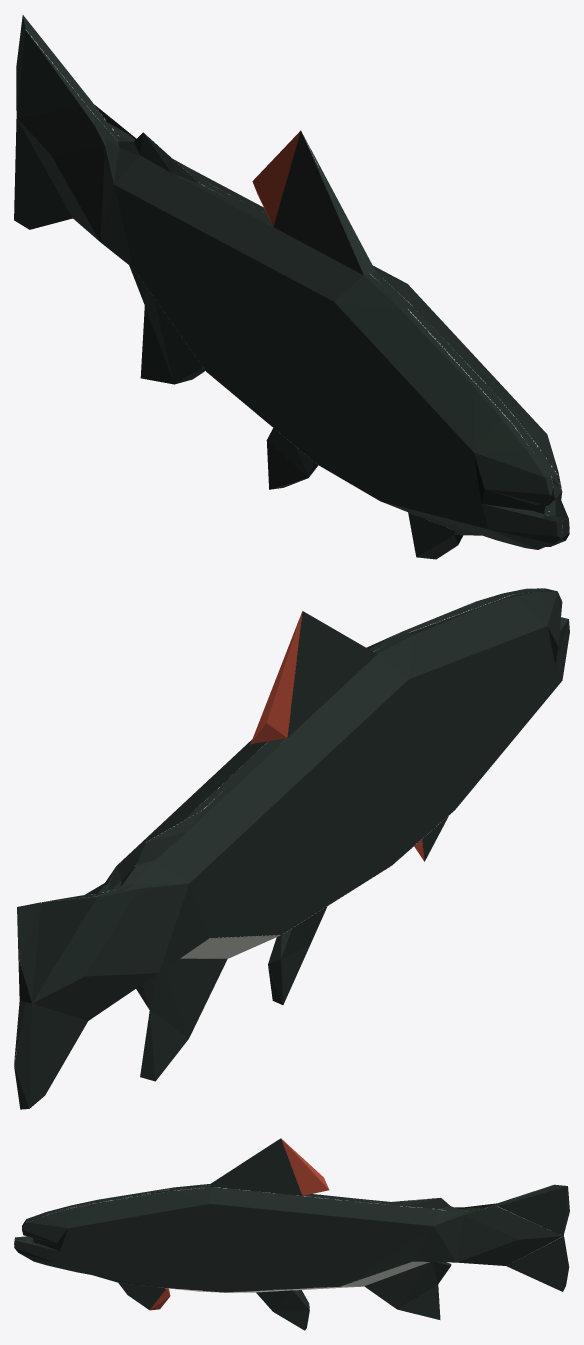
File: trout.fbx
The picture shows the model from 3 angles, top to bottom: view 1: azimuth 30°, elevation 25°; view 2: azimuth 150°, elevation 25°; view 3: azimuth 270°, elevation 25°; orthographic projection. The views are drawn at different scales.
Visible parts, largest first — view 1: Cube; view 2: Cube; view 3: Cube.
Boxes of the visible parts, left/top/right/bottom form: Cube: left=14, top=15, right=569, bottom=559; Cube: left=14, top=588, right=569, bottom=1109; Cube: left=14, top=1138, right=569, bottom=1330.
Size of the model in its own units: 56.75 by 276 by 728.
1 material, 1 textured.
